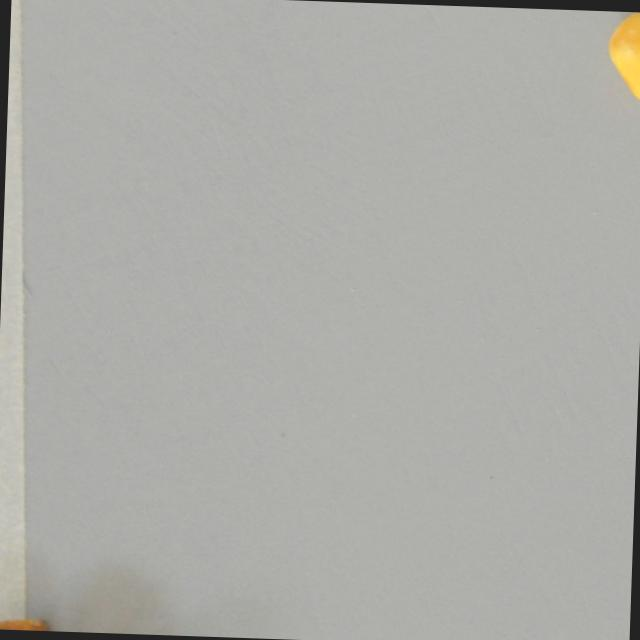dañado: (598, 10, 640, 105), (0, 610, 59, 631)
